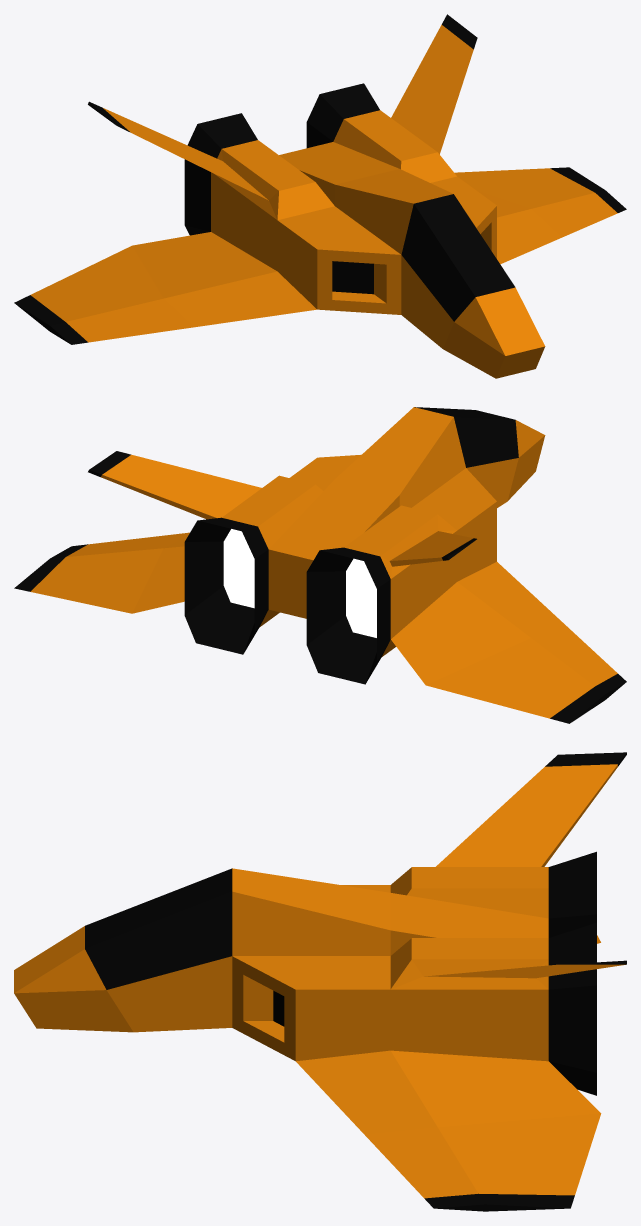
Rendered from spaceship.glb.
3 renders of one model, top to bottom at view 1: azimuth 30°, elevation 25°; view 2: azimuth 150°, elevation 25°; view 3: azimuth 270°, elevation 25°, orthographic. The views are drawn at different scales.
Parts seen in each view (by area): view 1: ship; view 2: ship; view 3: ship.
Part boxes in pixels (x1,y1,x2,y2): ship: (14, 14, 626, 378); ship: (14, 407, 626, 723); ship: (14, 752, 626, 1211).
Bounding box in the file's own units: 4.83 × 1.35 × 3.87.
